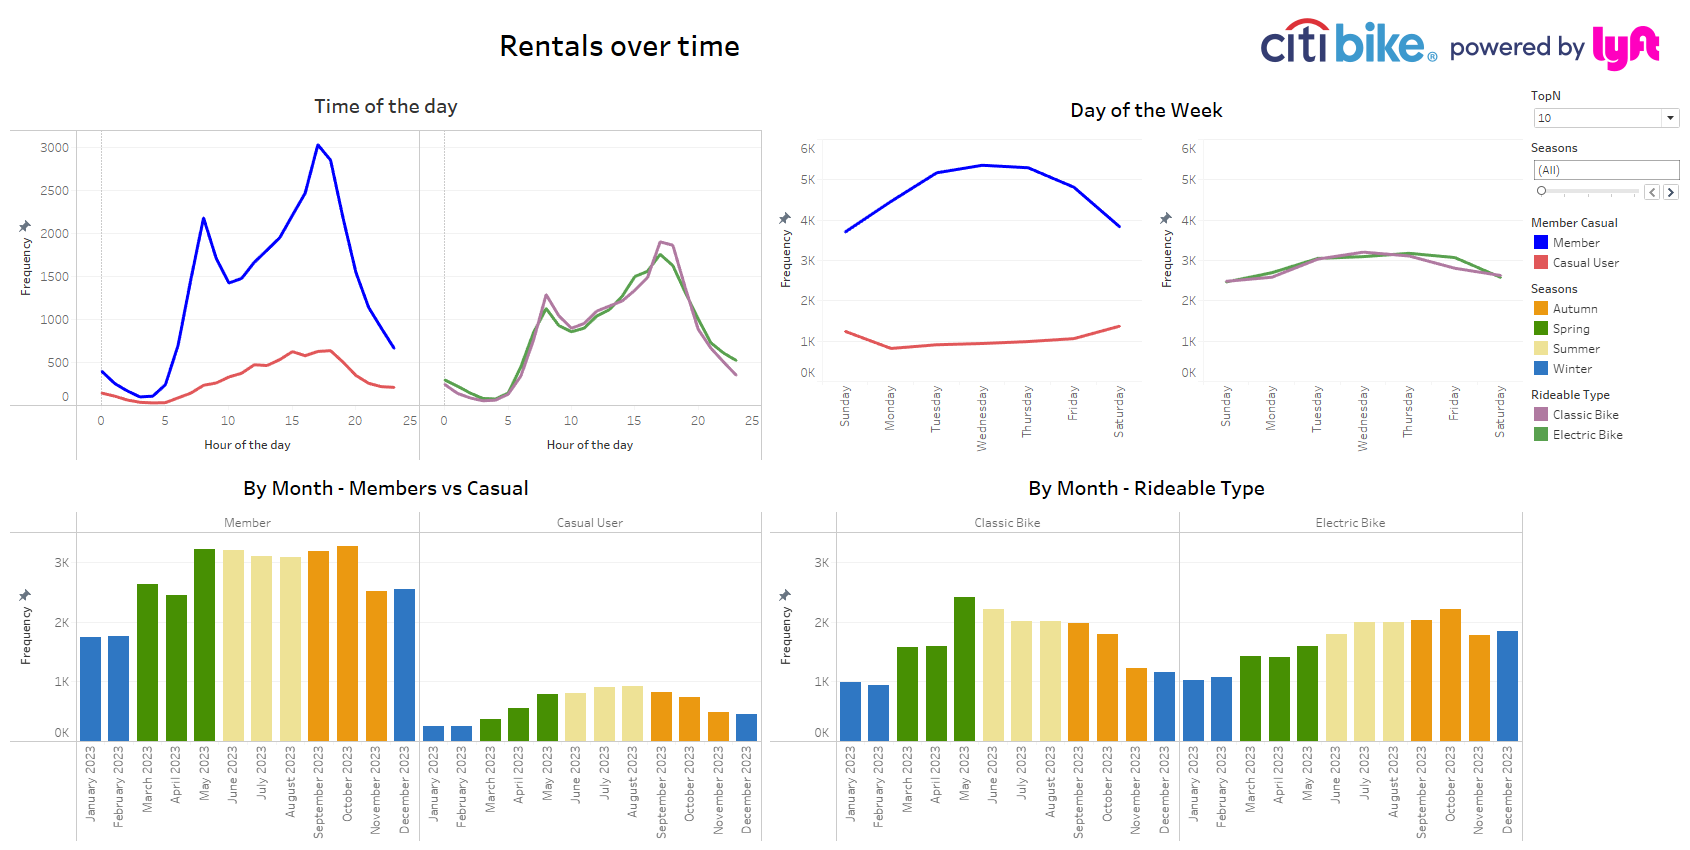

Layout of this report page (visuals, bound fields, positions):
{"tool":"tableau","page":{"name":"Rentals over time","canvas":[1000,1000],"units":"permille","ordinal":1},"visuals":[{"type":"text","box":[4.7,9.3,723,90]},{"type":"image","box":[727.8,9.3,267.5,90]},{"type":"worksheet","title":"Time of the day","mark":"Automatic","rows":["Calculation_2627850436904783875"],"cols":["started_at","started_at"],"box":[4.7,99.3,447.9,445.7]},{"type":"text","box":[452.6,99.3,448.4,60.8]},{"type":"parameter","param":"[Parameters].[Parameter 1]","box":[901,99.3,94.3,60.8]},{"type":"worksheet","title":"Day of the Week - Members vs Casual","mark":"Line","rows":["Calculation_2627850436904783875"],"cols":["Calculation_2627850436967088132"],"box":[452.6,160.1,224.2,384.9]},{"type":"worksheet","title":"Day of the Week - Rideable Type","mark":"Line","rows":["Calculation_2627850436904783875"],"cols":["Calculation_2627850436967088132"],"box":[676.8,160.1,224.2,384.9]},{"type":"filter","title":"Day of the Week - Members vs Casual","param":"[federated.1oxvxop1oxv0kf119dd681grhlnr].[none:Calculation_2627850436903153666:n","box":[901,160.1,94.3,87.6]},{"type":"legend","title":"Time of the day","param":"[federated.1oxvxop1oxv0kf119dd681grhlnr].[none:member_casual:nk]","box":[901,247.7,94.3,77.1]},{"type":"legend","title":"By Month - Members vs Casual","param":"[federated.1oxvxop1oxv0kf119dd681grhlnr].[none:Calculation_2627850436903153666:n","box":[901,324.8,94.3,123.8]},{"type":"legend","title":"Day of the Week - Rideable Type","param":"[federated.1oxvxop1oxv0kf119dd681grhlnr].[none:rideable_type:nk]","box":[901,448.6,94.3,77.1]},{"type":"worksheet","title":"By Month - Members vs Casual","mark":"Bar","rows":["Calculation_2627850436904783875"],"cols":["member_casual","started_at"],"box":[4.7,545,447.9,445.7]},{"type":"worksheet","title":"By Month - Rideable Type","mark":"Bar","rows":["Calculation_2627850436904783875"],"cols":["rideable_type","started_at"],"box":[452.6,545,448.4,445.7]}]}

Visuals, with their boxes on the dashboard's canvas, which has no fixed pixel size, in thousandths of its width and height (x1, y1, x2, y2). These are canvas units, not pixel positions in the 1690x850 screenshot, which may show the page scaled, cropped or inside an application window:
text: <region>5, 9, 728, 99</region>
image: <region>728, 9, 995, 99</region>
"Time of the day" worksheet: <region>5, 99, 453, 545</region>
text: <region>453, 99, 901, 160</region>
parameter: <region>901, 99, 995, 160</region>
"Day of the Week - Members vs Casual" worksheet (Line marks): <region>453, 160, 677, 545</region>
"Day of the Week - Rideable Type" worksheet (Line marks): <region>677, 160, 901, 545</region>
"Day of the Week - Members vs Casual" filter: <region>901, 160, 995, 248</region>
"Time of the day" legend: <region>901, 248, 995, 325</region>
"By Month - Members vs Casual" legend: <region>901, 325, 995, 449</region>
"Day of the Week - Rideable Type" legend: <region>901, 449, 995, 526</region>
"By Month - Members vs Casual" worksheet (Bar marks): <region>5, 545, 453, 991</region>
"By Month - Rideable Type" worksheet (Bar marks): <region>453, 545, 901, 991</region>
